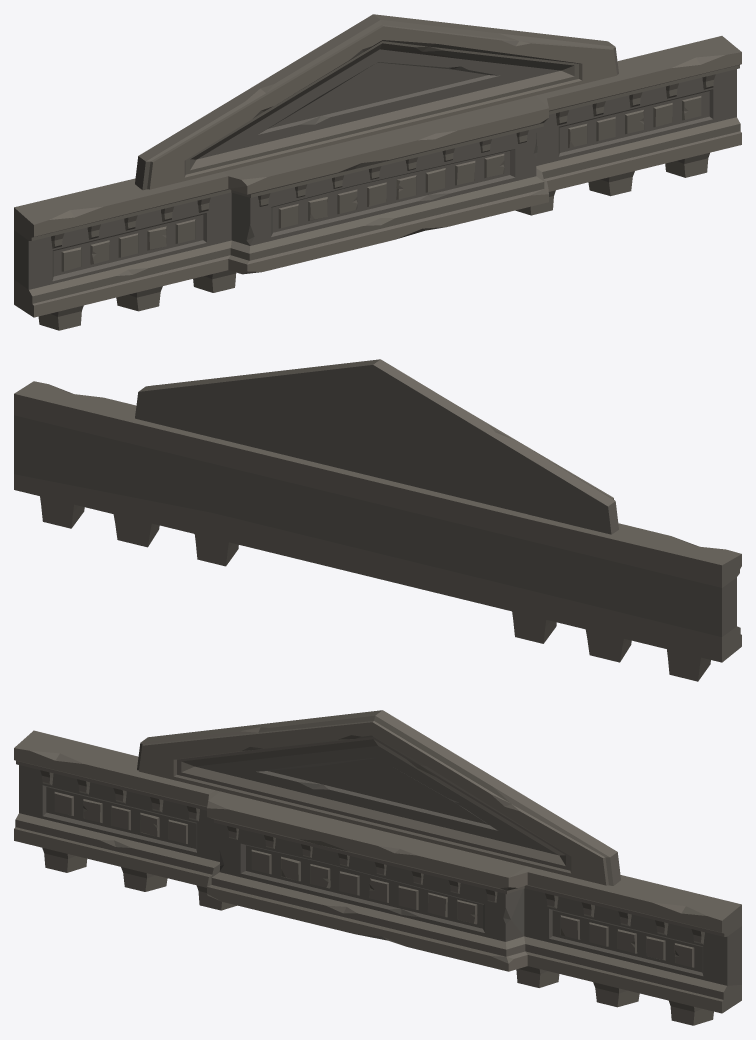
The model's file is SM_Bld_Trim_Triple_01.fbx.
The picture shows the model from 3 angles, top to bottom: view 1: azimuth 30°, elevation 25°; view 2: azimuth 150°, elevation 25°; view 3: azimuth 330°, elevation 25°; orthographic projection.
Parts seen in each view (by area): view 1: SM_Bld_Trim_Triple_01; view 2: SM_Bld_Trim_Triple_01; view 3: SM_Bld_Trim_Triple_01.
Boxes of the visible parts, bbox=[...] form: SM_Bld_Trim_Triple_01: bbox=[14, 14, 741, 330]; SM_Bld_Trim_Triple_01: bbox=[14, 359, 741, 681]; SM_Bld_Trim_Triple_01: bbox=[14, 710, 741, 1025].
Bounding box in the file's own units: 750 × 236 × 55.15.
